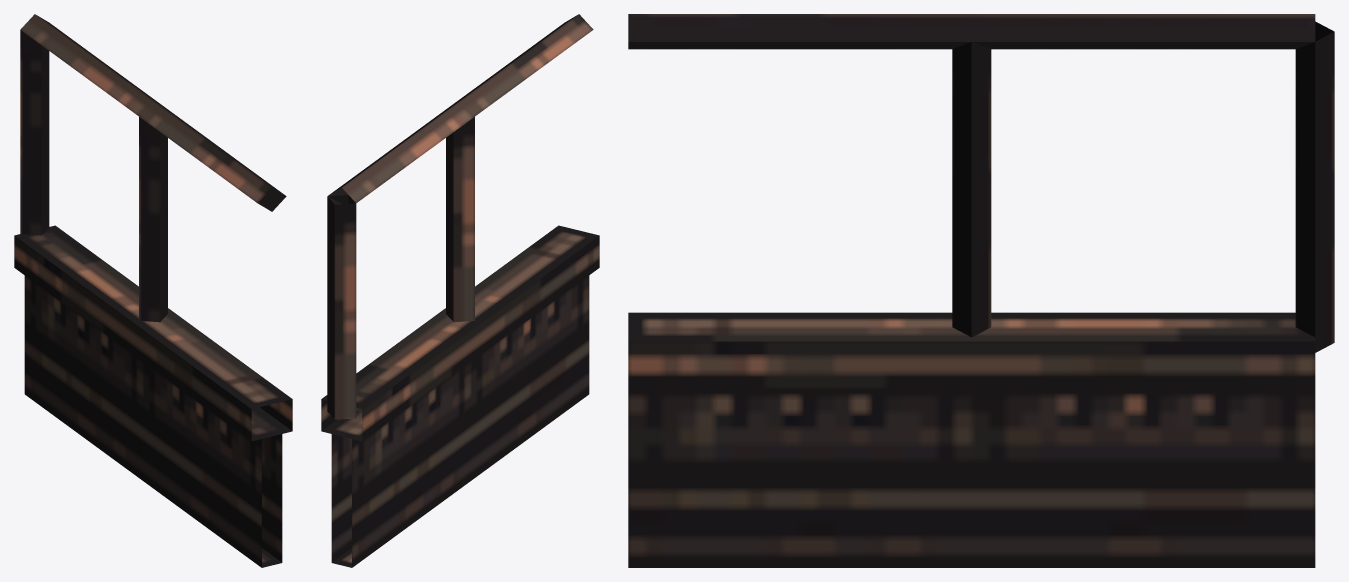
Rendered from EnvBdgMD_Factory_B_Outdoor_Fenece_B.FBX.
3 renders of one model, left to right at view 1: azimuth 30°, elevation 25°; view 2: azimuth 150°, elevation 25°; view 3: azimuth 270°, elevation 25°, orthographic. The views are drawn at different scales.
Visible parts, largest first — view 1: EnvBdgMD_Factory_B_Outdoor_Fenece_B; view 2: EnvBdgMD_Factory_B_Outdoor_Fenece_B; view 3: EnvBdgMD_Factory_B_Outdoor_Fenece_B.
Part boxes in pixels (<box>): EnvBdgMD_Factory_B_Outdoor_Fenece_B: <box>14,14,292,567</box>; EnvBdgMD_Factory_B_Outdoor_Fenece_B: <box>321,14,599,567</box>; EnvBdgMD_Factory_B_Outdoor_Fenece_B: <box>628,14,1334,567</box>.
Bounding box in the file's own units: 20 × 176 × 206.
